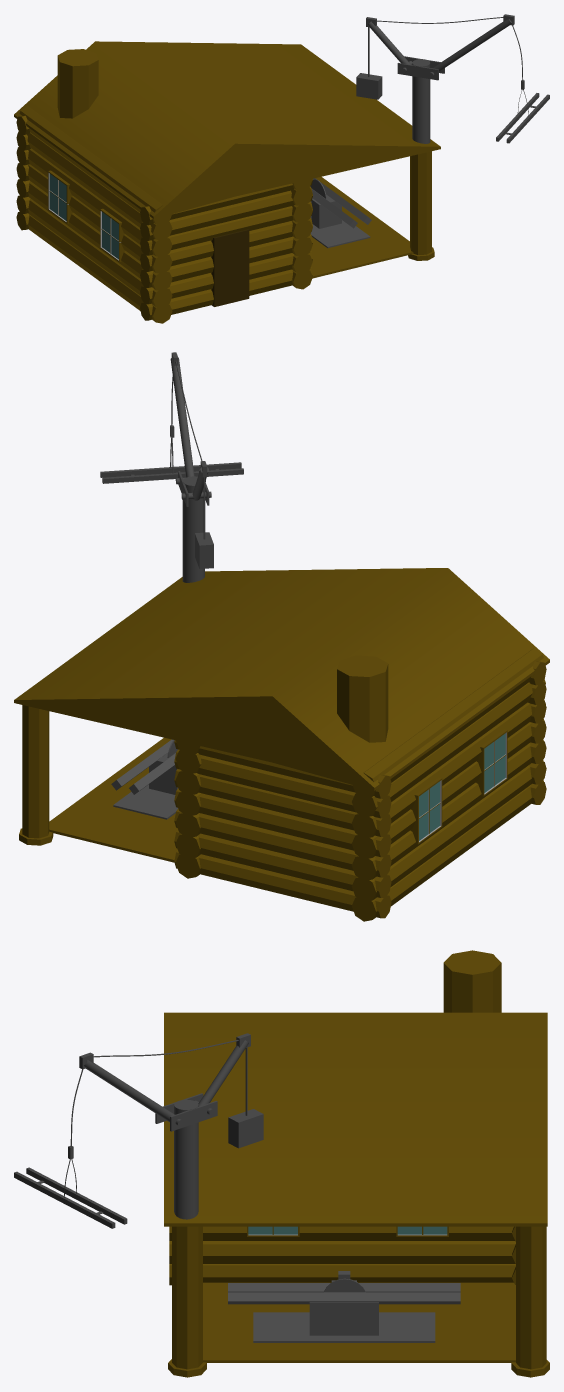
Rendered from New_Lumber_Mill.fbx.
3 renders of one model, top to bottom at view 1: azimuth 30°, elevation 25°; view 2: azimuth 150°, elevation 25°; view 3: azimuth 270°, elevation 25°, orthographic. The views are drawn at different scales.
Visible parts, largest first — view 1: LumberMill; view 2: LumberMill; view 3: LumberMill.
Part boxes in pixels (x1,y1,x2,y2): LumberMill: [14, 14, 549, 323]; LumberMill: [14, 352, 549, 921]; LumberMill: [14, 950, 549, 1377].
Bounding box in the file's own units: 23.3 × 14.97 × 20.87.
